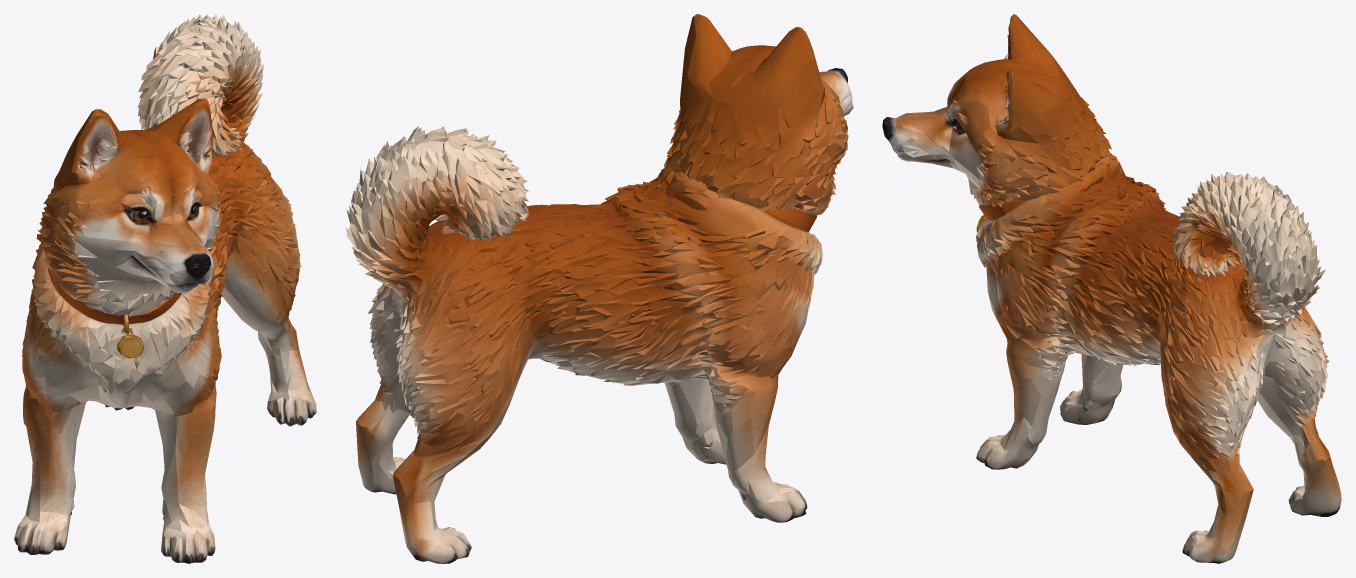
3 renders of one model, left to right at view 1: azimuth 30°, elevation 25°; view 2: azimuth 150°, elevation 25°; view 3: azimuth 270°, elevation 25°, orthographic. The views are drawn at different scales.
Visible parts, largest first — view 1: Mesh_0; view 2: Mesh_0; view 3: Mesh_0.
Part boxes in pixels (x1,y1,x2,y2): Mesh_0: (14,14,316,563); Mesh_0: (346,14,853,563); Mesh_0: (882,14,1341,563).
Bounding box in the file's own units: 1.57 × 1.86 × 1.9.
Materials: 1 (1 with a texture image).
